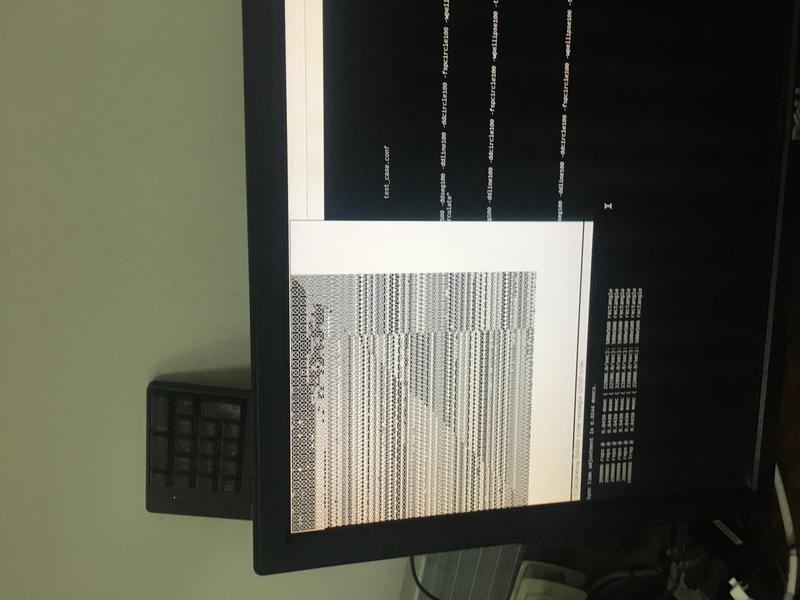xrandr_pass: (275, 214, 588, 535)
